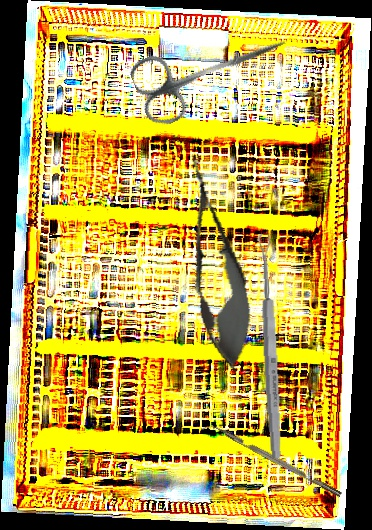Chopper: (201, 417, 342, 505)
Iris Scissors: (126, 7, 298, 131)
Micro Scissor: (168, 147, 263, 377)
Surgical Spoon: (257, 233, 284, 459)
